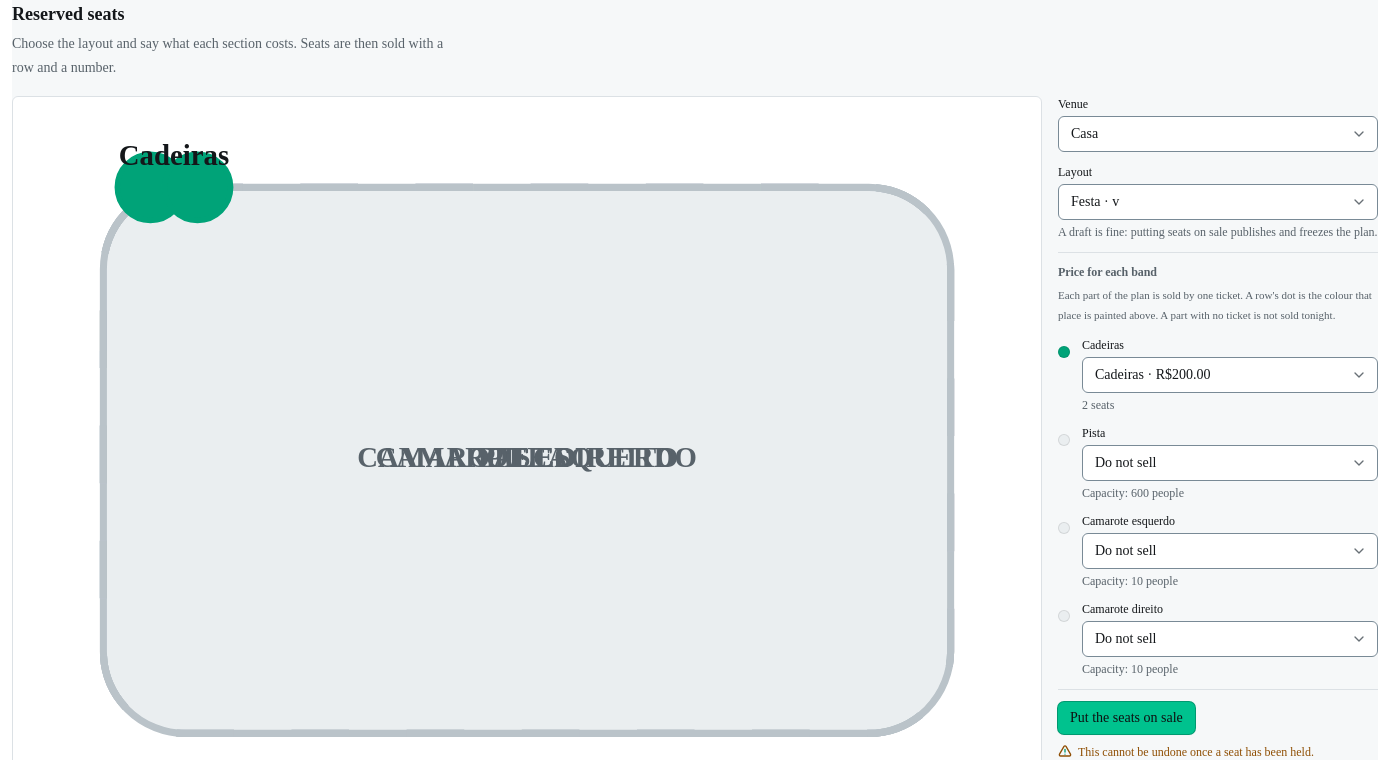
pricing the parts of a room that have no numbered chairs › resizes the lote to the place in one press and then allows the commit
The image size is (1390, 760).
Select "Pista · R$200.00" in the dropdown labelled "Camarote esquerdo" at (1230, 551), box [1082,533,1378,569]
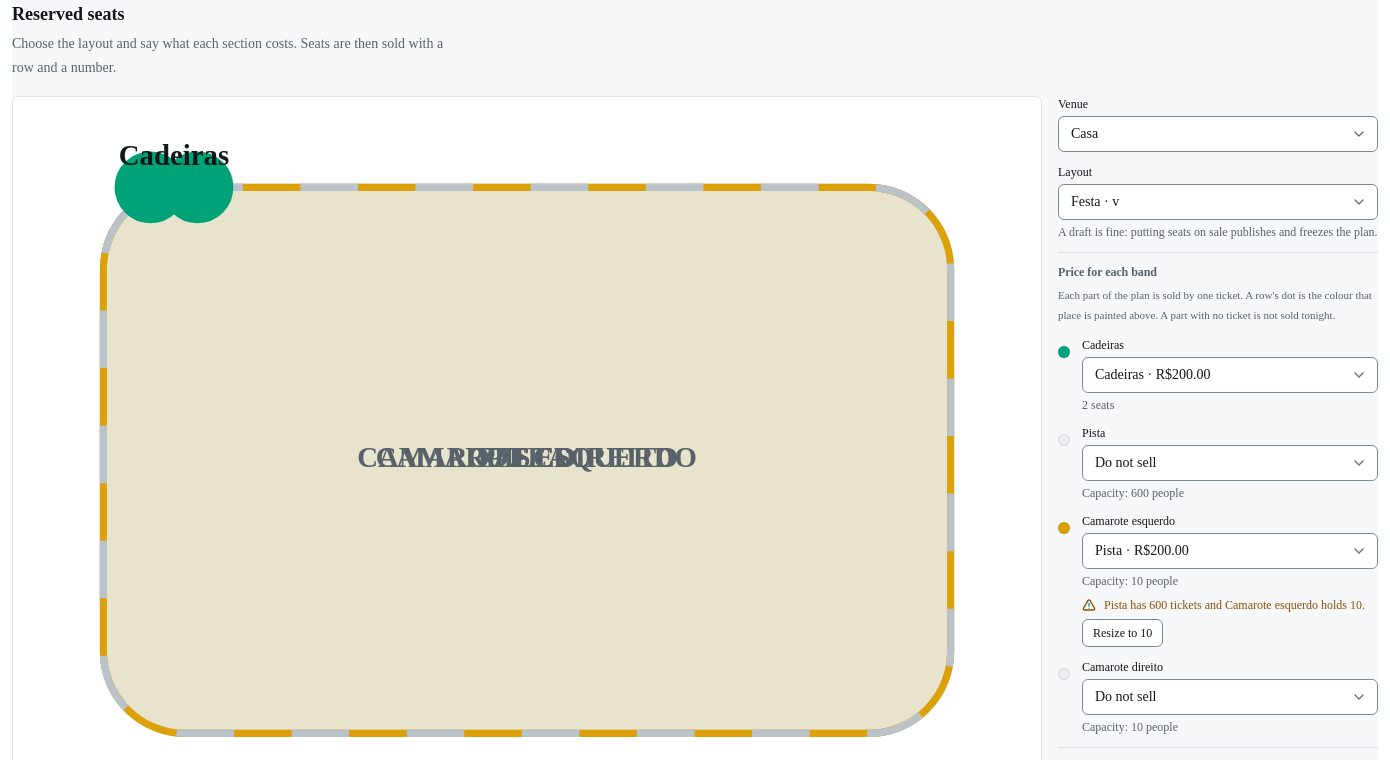
Click the button "Resize to 10" at (1123, 633), box [1082,619,1163,647]
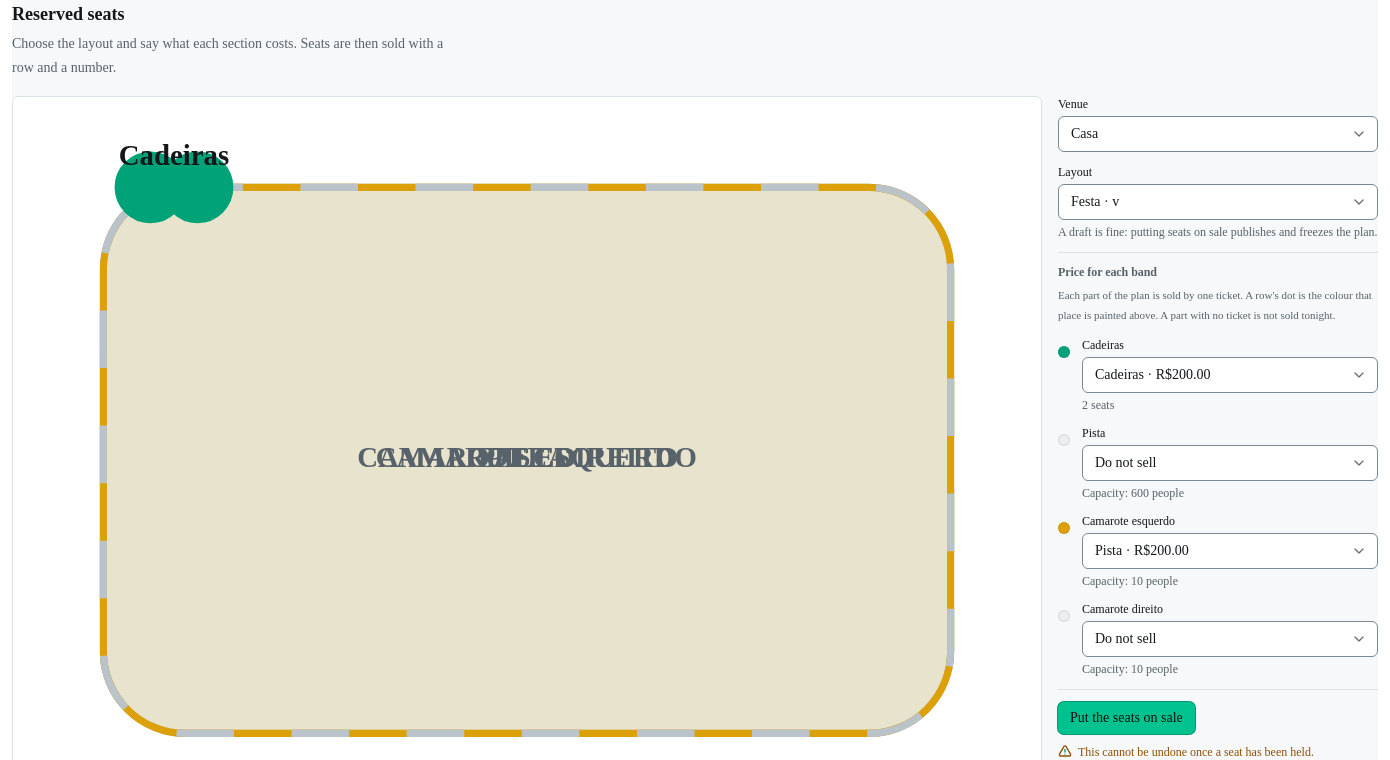
expect the button "Put the seats on sale" is enabled: met, box [1058,702,1195,734]
